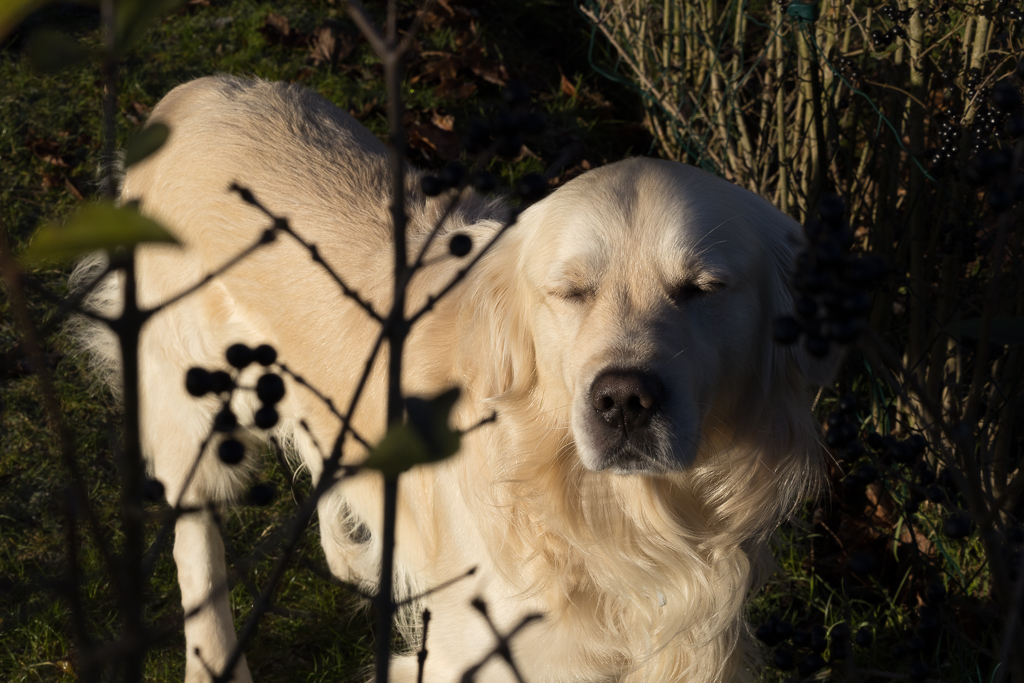Dog: (48, 44, 885, 683)
